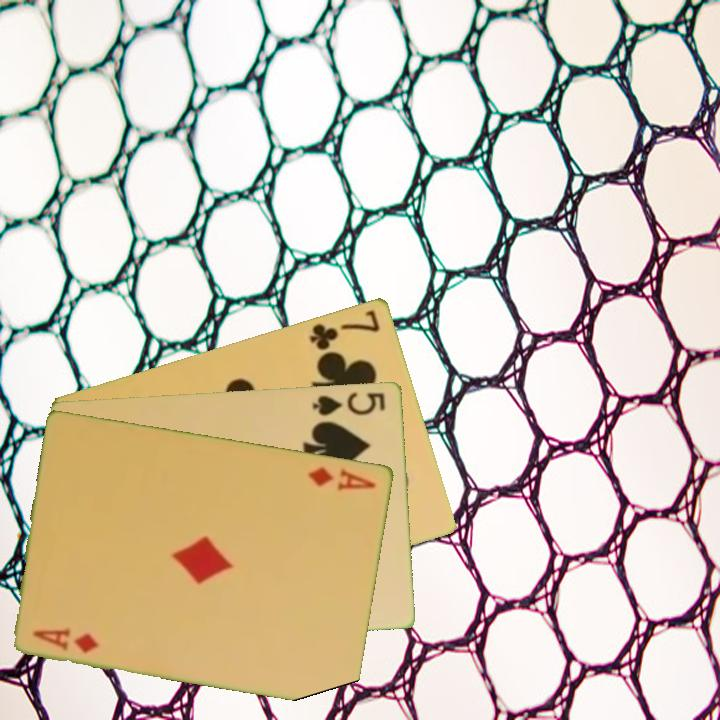5s: (309, 388, 389, 418)
7c: (306, 305, 383, 353)
Ad: (29, 624, 103, 656), (305, 463, 379, 494)
